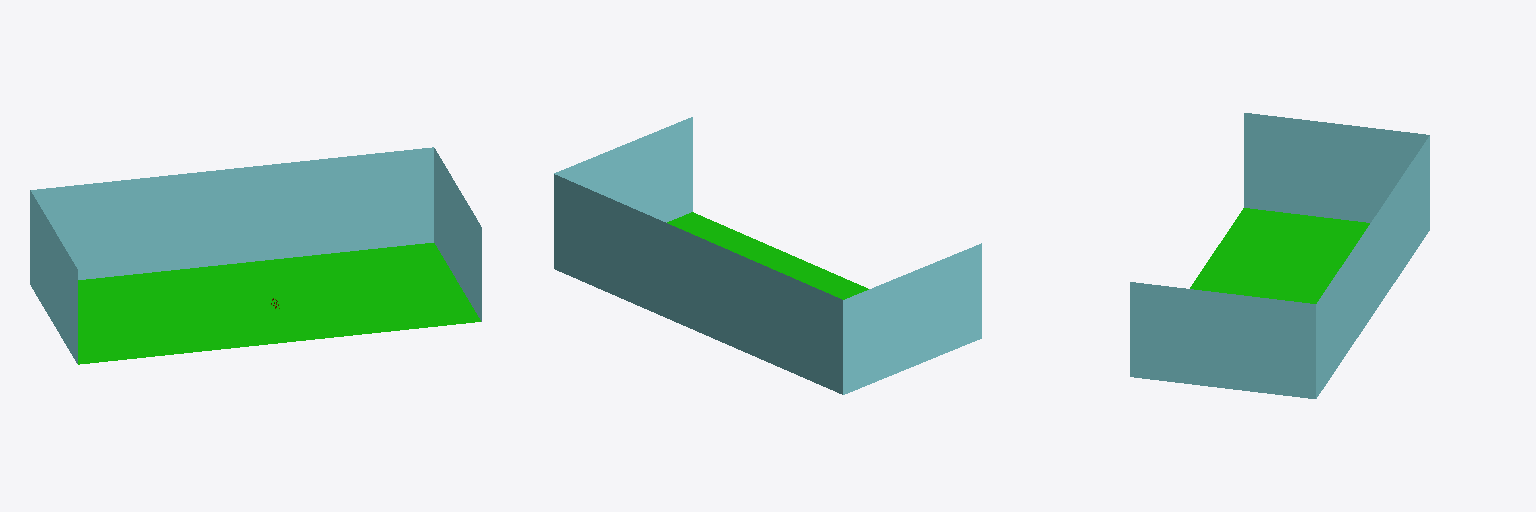
The model's file is swing.obj.
The picture shows the model from 3 angles: view 1: azimuth 30°, elevation 25°; view 2: azimuth 150°, elevation 25°; view 3: azimuth 270°, elevation 25°; orthographic projection.
Visible parts, largest first — view 1: Plane.001; view 2: Plane.001; view 3: Plane.001.
Part boxes in pixels (bbox=[...]): Plane.001: bbox=[30, 147, 481, 364]; Plane.001: bbox=[554, 117, 981, 394]; Plane.001: bbox=[1130, 113, 1429, 398].
Bounding box in the file's own units: 412 × 95.51 × 273.